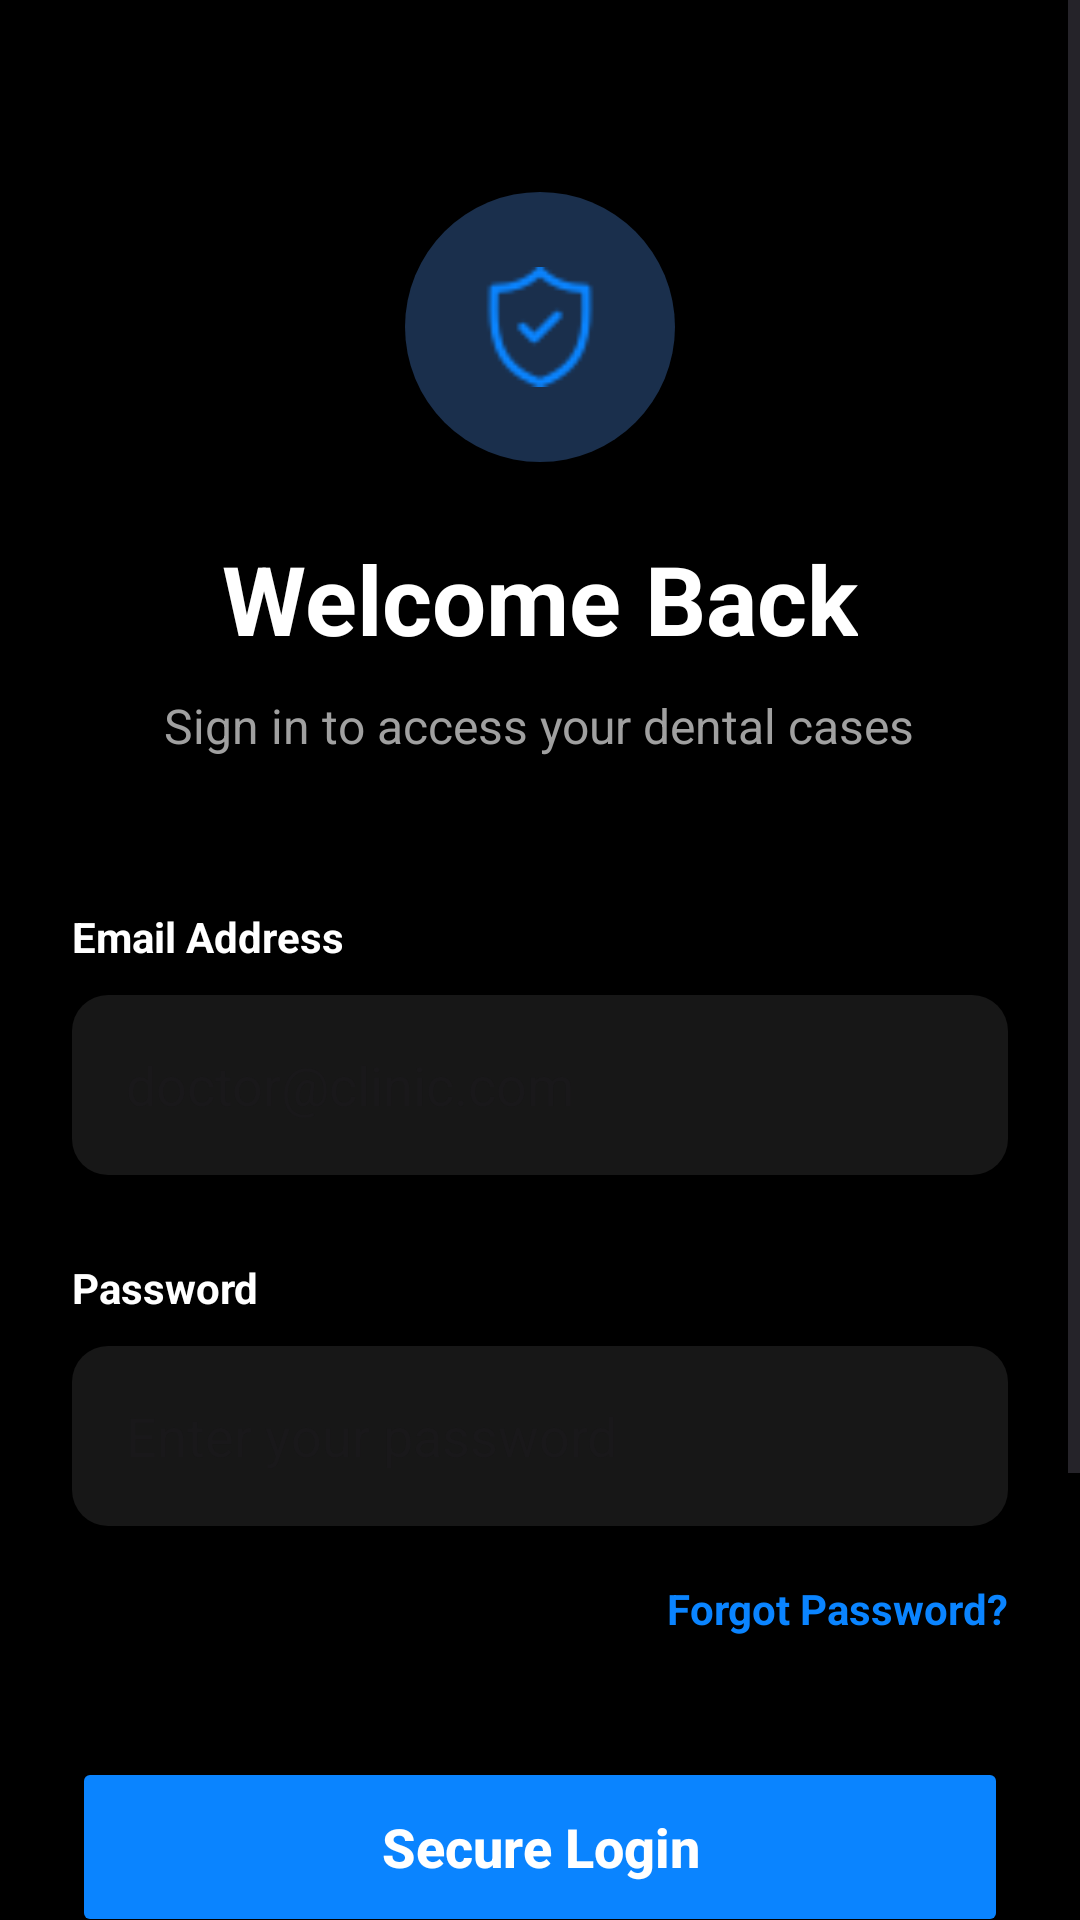

Icon bounding boxes for this 1080×1920 phone screenshot, format (left=x1, top=y1, right=x2, bottom=y2):
security: (left=487, top=267, right=593, bottom=387)
